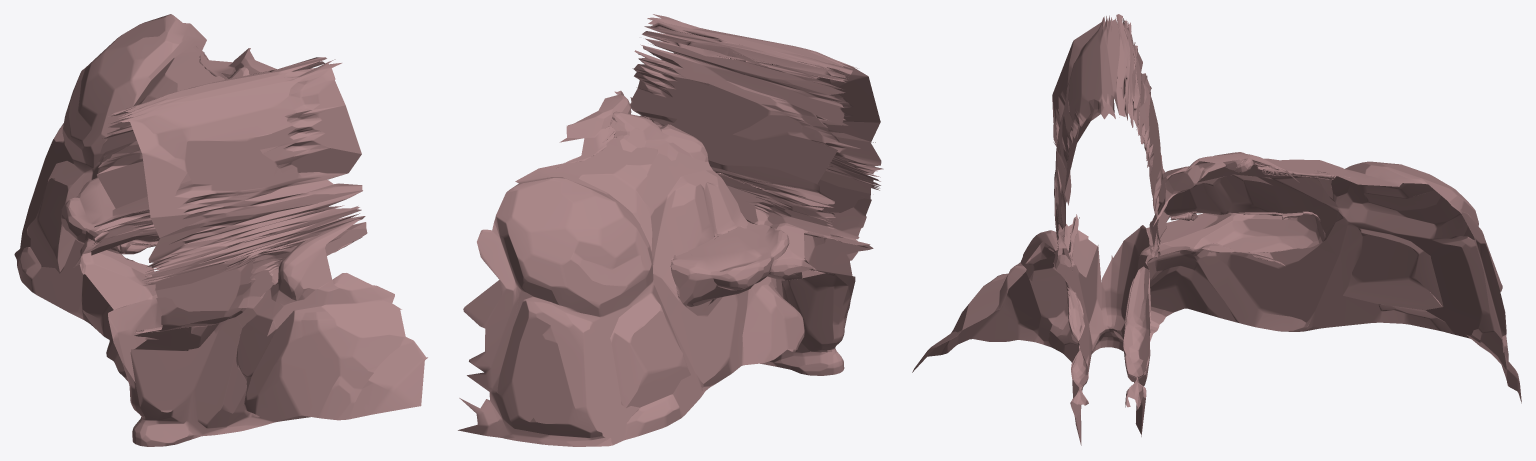
Rendered from mini_canyon.fbx_Cube__12__005LODs.fbx.
3 views of the same model, side by side, from view 1: azimuth 30°, elevation 25°; view 2: azimuth 150°, elevation 25°; view 3: azimuth 270°, elevation 25° (orthographic). The views are drawn at different scales.
Visible parts, largest first — view 1: Cube (12).005_LOD0; view 2: Cube (12).005_LOD0; view 3: Cube (12).005_LOD0.
Boxes of the visible parts, x1,y1,x2,y2 form: Cube (12).005_LOD0: [14, 14, 427, 446]; Cube (12).005_LOD0: [458, 14, 883, 446]; Cube (12).005_LOD0: [912, 14, 1521, 445].
Size of what is drawn, in the model's own units: 1640 by 2374 by 3924.
